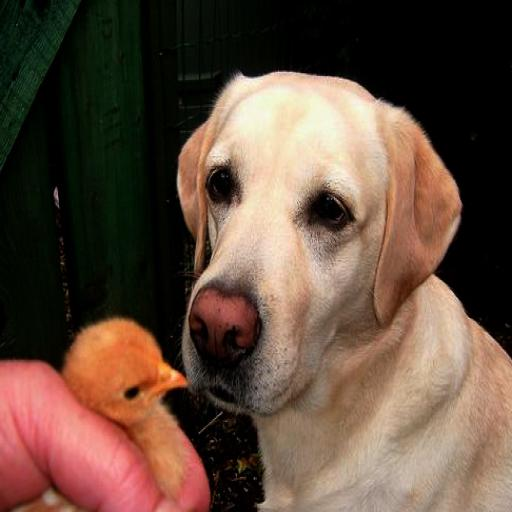dog_face: (174, 67, 445, 376)
